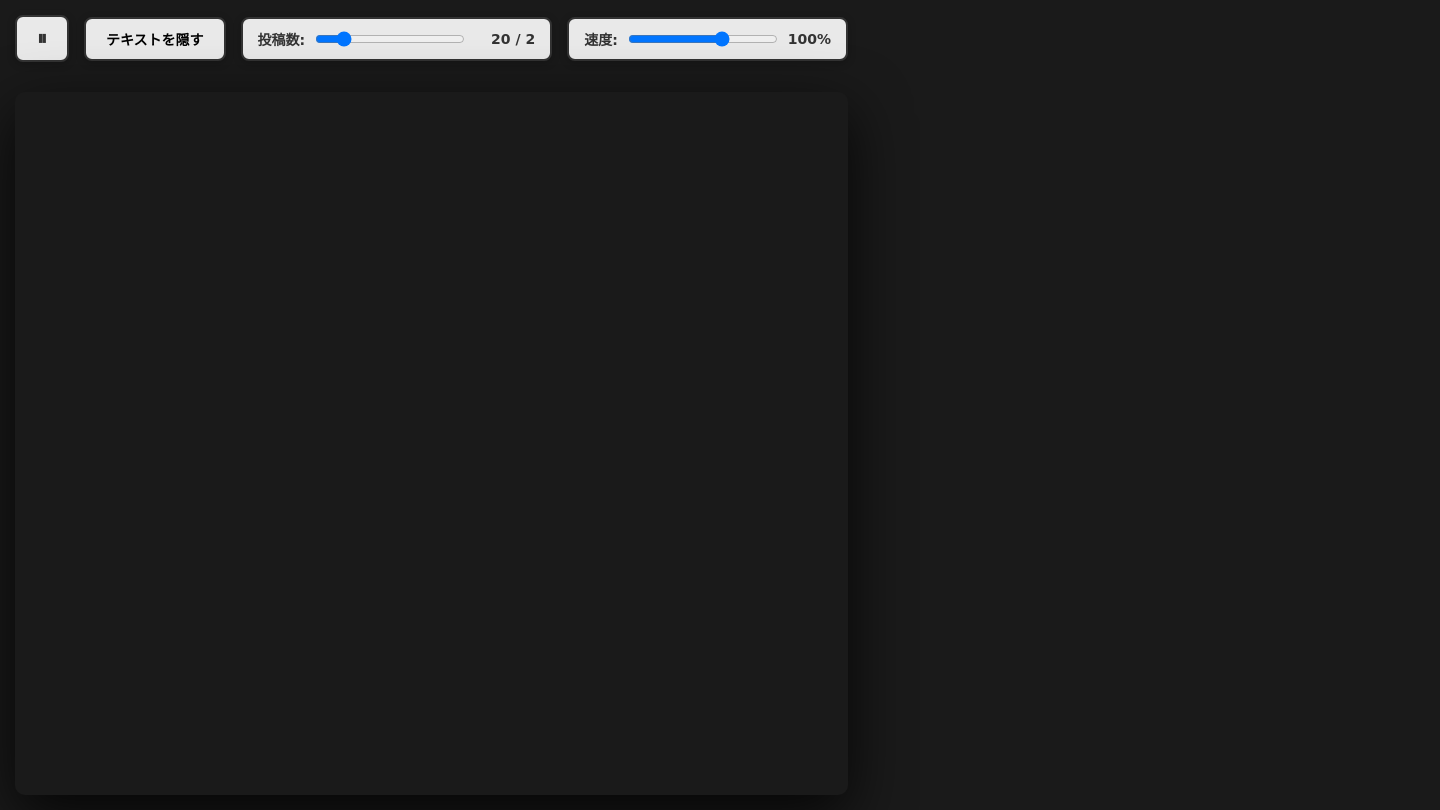
Test: CreativeWall - Download Feature Integration › Success notification › should display success notification after download
Note: Pause the board
Click the button "⏸".
click(42, 38)  # box 15,15 -> 69,62
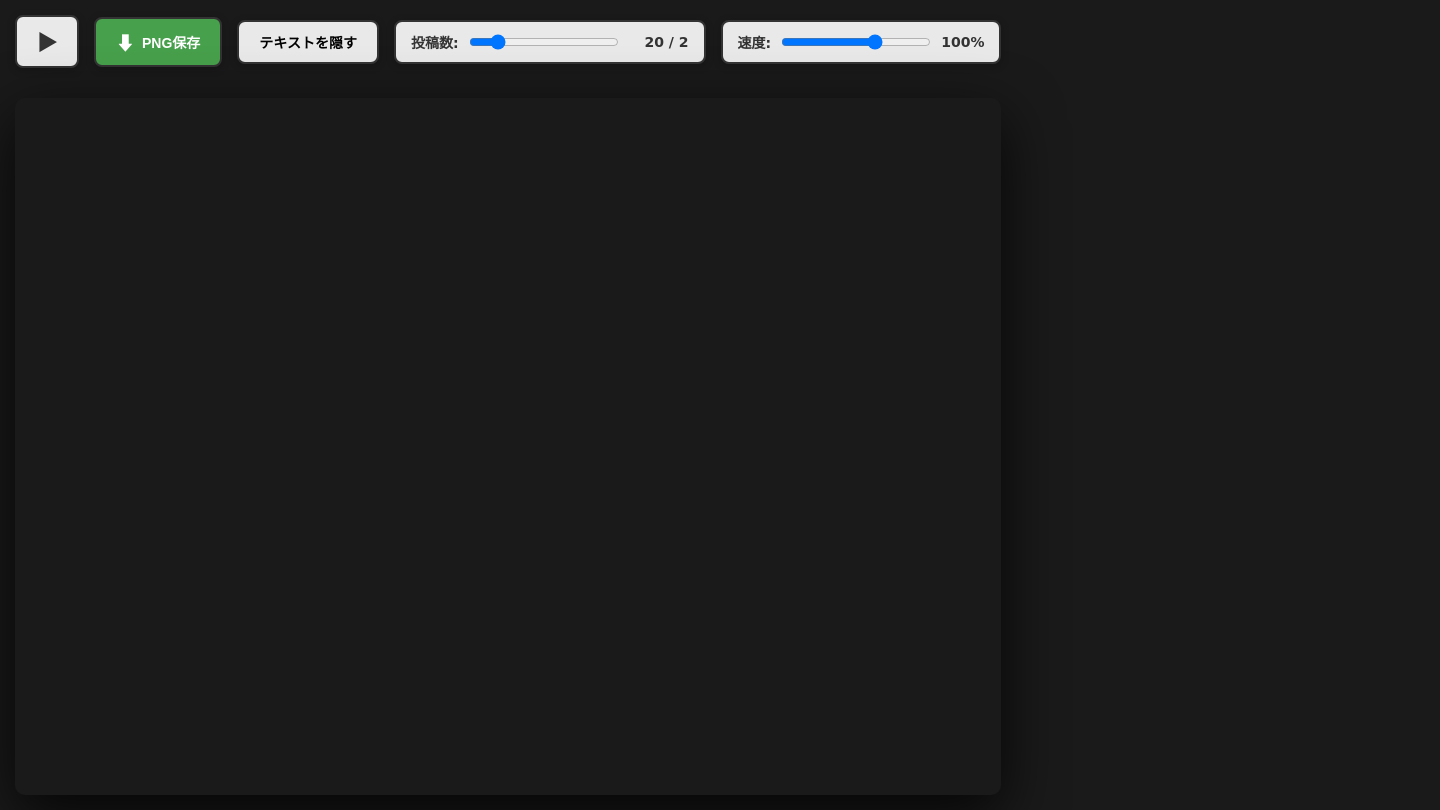
Click the button with class "download-button".
click(158, 42)  # box 94,16 -> 222,66
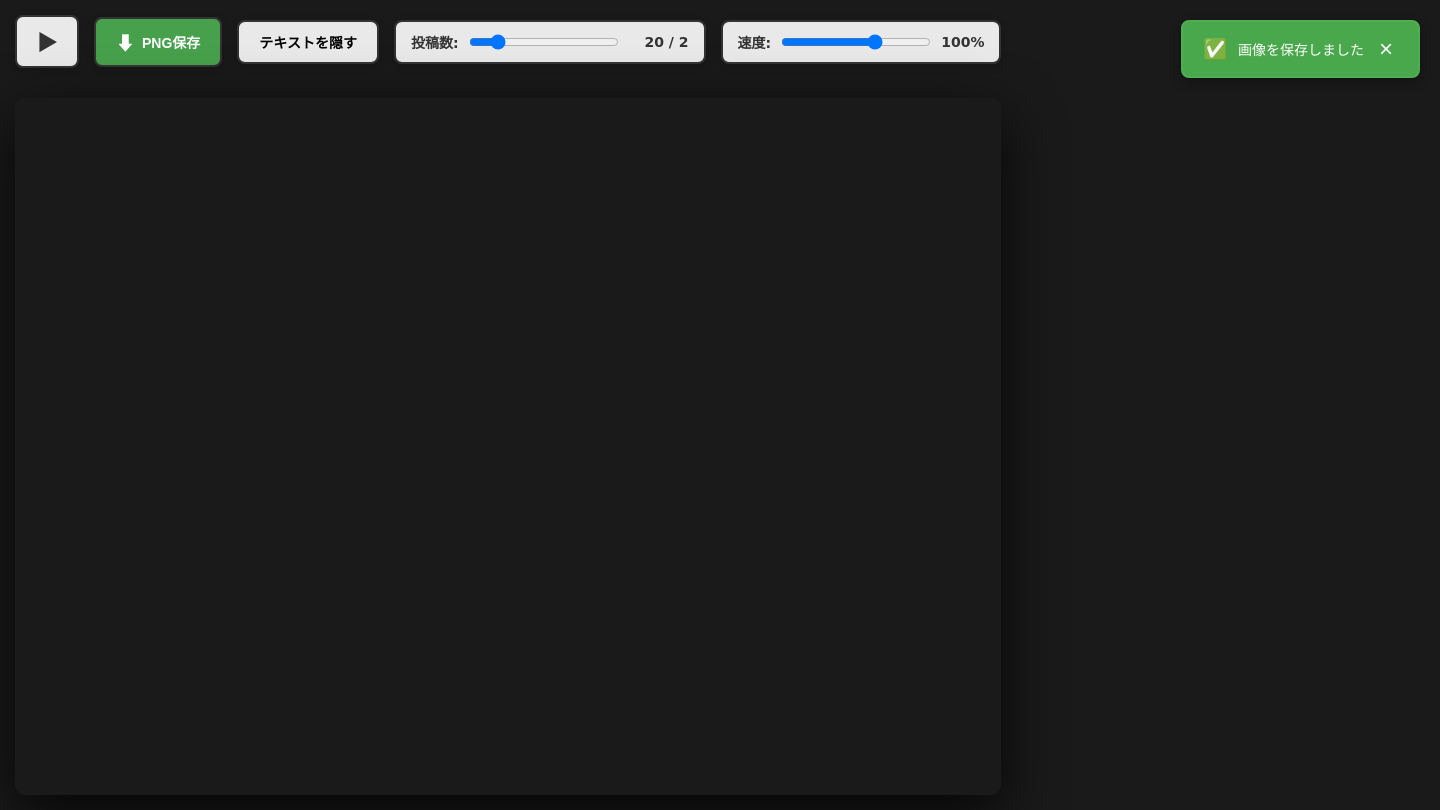
Result: the message "✅ 画像を保存しました ×" is shown at 1181,20 -> 1420,78
Result: the message with class "success-notification" shows "画像を保存しました" at 1238,42 -> 1364,58
